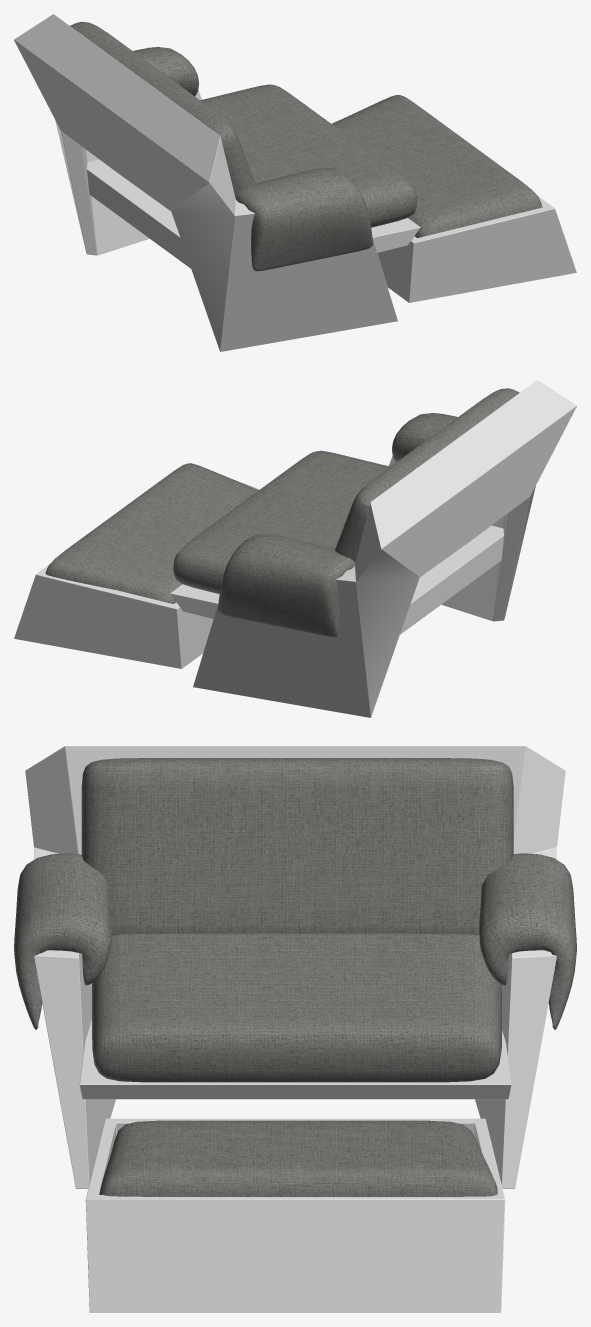
File: chair.glb
3 views of the same model, one above another, from view 1: azimuth 30°, elevation 25°; view 2: azimuth 150°, elevation 25°; view 3: azimuth 270°, elevation 25° (orthographic). The views are drawn at different scales.
Visible parts, largest first — view 1: Cube.039, Cube.067, Cube.043, Cube.041, Cube.042, Cube.040, Cube.046; view 2: Cube.039, Cube.067, Cube.043, Cube.041, Cube.042, Cube.040, Cube.046; view 3: Cube.046, Cube.043, Cube.041, Cube.039, Cube.067, Cube.042, Cube.040.
Boxes of the visible parts, <box> form: Cube.039: <box>14,14,397,351</box>; Cube.067: <box>332,95,541,237</box>; Cube.043: <box>200,84,416,227</box>; Cube.041: <box>330,119,576,302</box>; Cube.042: <box>133,47,373,271</box>; Cube.040: <box>87,159,420,268</box>; Cube.046: <box>70,21,255,195</box>; Cube.039: <box>193,380,576,717</box>; Cube.067: <box>45,463,258,603</box>; Cube.043: <box>173,450,389,593</box>; Cube.041: <box>14,480,260,668</box>; Cube.042: <box>217,413,457,637</box>; Cube.040: <box>170,525,503,634</box>; Cube.046: <box>335,388,519,562</box>; Cube.046: <box>81,758,513,935</box>; Cube.043: <box>92,933,501,1082</box>; Cube.041: <box>85,1118,505,1312</box>; Cube.039: <box>25,746,565,1188</box>; Cube.067: <box>99,1120,497,1196</box>; Cube.042: <box>14,853,576,1029</box>; Cube.040: <box>79,1020,511,1099</box>.
Bounding box in the file's own units: 1.29 × 0.7323 × 1.16.
Materials: 2 (1 with a texture image).
